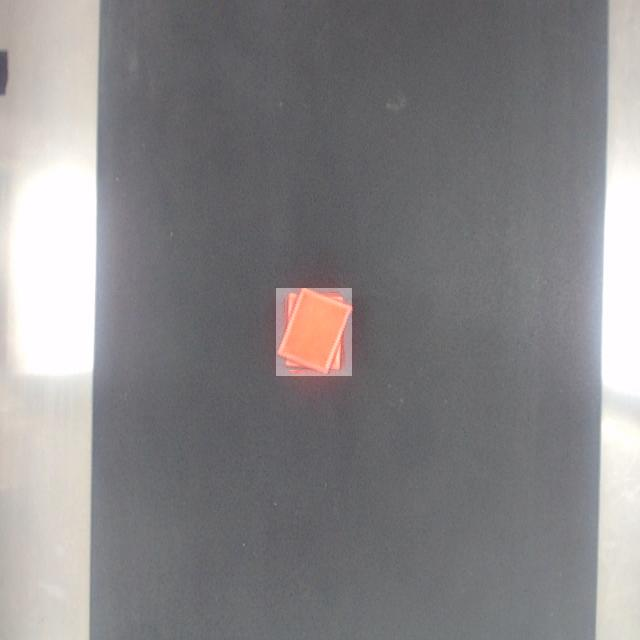Rojo: (277, 289, 352, 376)
